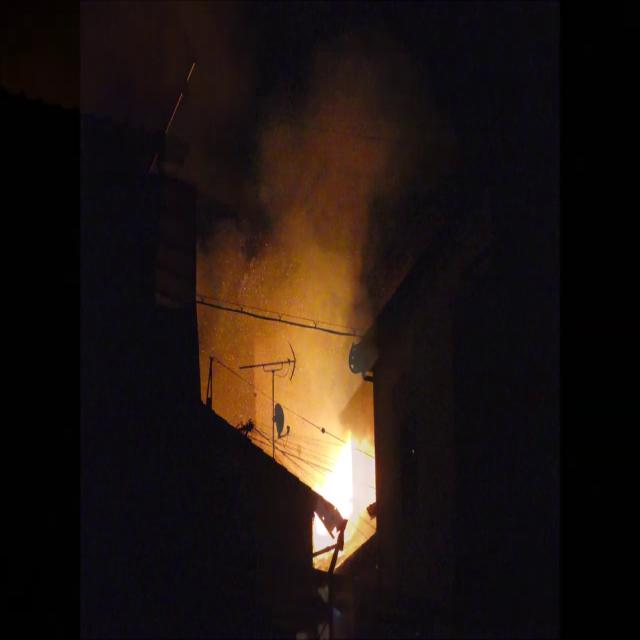Fire: (319, 426, 375, 546)
Smoke: (207, 4, 429, 475)
